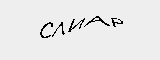И: (119, 24, 148, 45)
У: (100, 23, 118, 42)
Ф: (83, 21, 102, 40)
Ю: (60, 16, 85, 37)
Я: (10, 12, 36, 34)
Ә: (37, 14, 61, 33)
